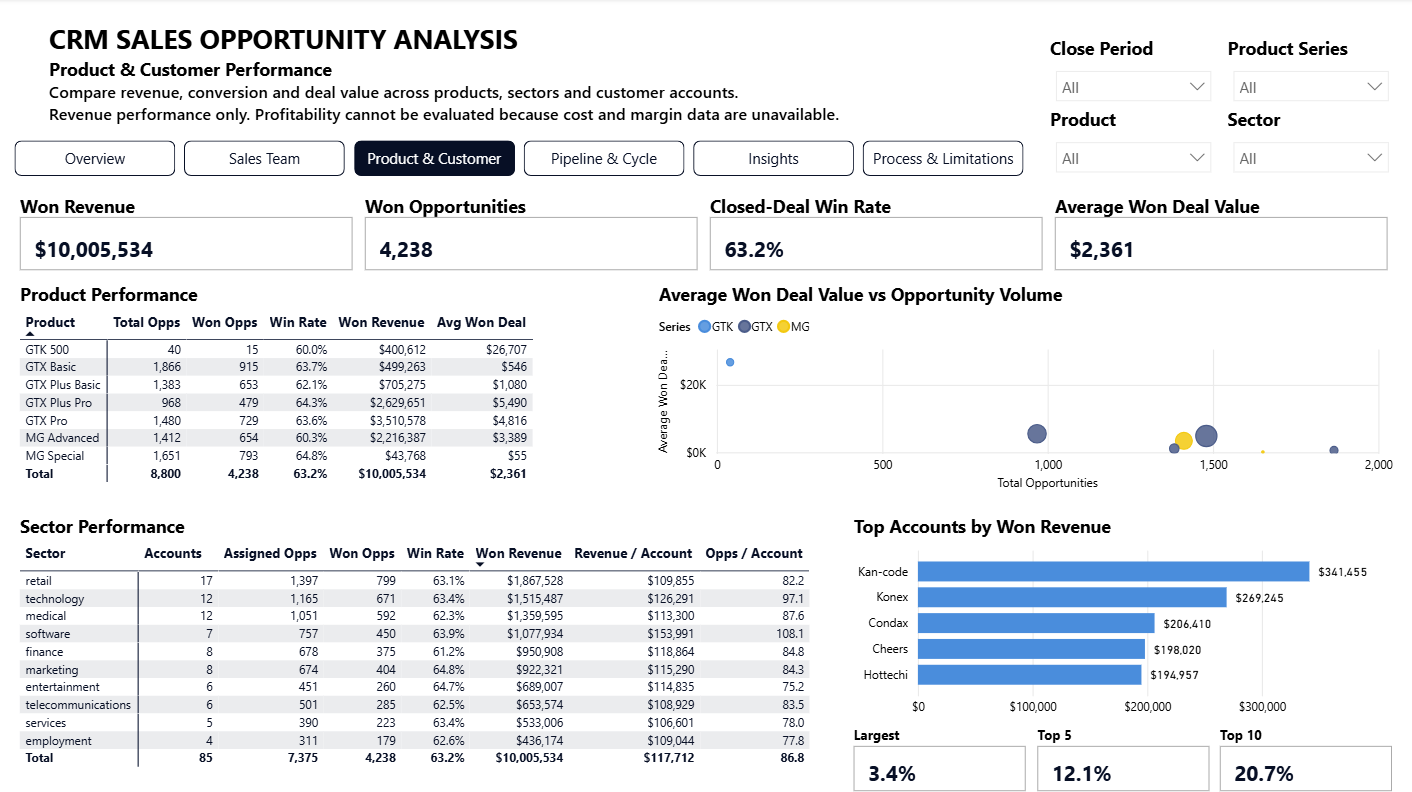

The dashboard page shown, as its layout file describes it:
{"tool":"powerbi","page":{"name":"Product & Customer","canvas":[1280,720],"ordinal":6},"visuals":[{"type":"textbox","box":[0,16,928,104],"z":0},{"type":"cardVisual","title":"Largest","fields":{"Data":["_Measures.Largest Account Revenue Share"]},"box":[768,656,165.3,64],"z":0,"group":"g3"},{"type":"pageNavigator","box":[16,128,912,32],"z":1000},{"type":"cardVisual","title":"Top 5","fields":{"Data":["_Measures.Top 5 Account Revenue Share"]},"box":[933.3,656,165.3,64],"z":1000,"group":"g3"},{"type":"slicer","title":"Close Period","fields":{"Values":["dim_date.Month Year"]},"box":[944,33.5,160,64],"z":2000,"group":"g2"},{"type":"group","id":"g1","title":"Group 1","box":[16,175.7,1248,80],"z":2000},{"type":"cardVisual","title":"Top 10","fields":{"Data":["_Measures.Top 10 Account Revenue Share"]},"box":[1098.7,656,165.3,64],"z":2000,"group":"g3"},{"type":"group","id":"g2","title":"Group 2","box":[944,33.5,320,128],"z":3000},{"type":"slicer","title":"Product Series","fields":{"Values":["dim_products.series"]},"box":[1104,33.5,160,64],"z":3000,"group":"g2"},{"type":"slicer","title":"Product","fields":{"Values":["dim_products.product"]},"box":[944,97.5,160,64],"z":4000,"group":"g2"},{"type":"pivotTable","title":"Product Performance","fields":{"Rows":["dim_products.series","dim_products.product"],"Values":["_Measures.Total Opportunities","_Measures.Won Opportunities","_Measures.Closed-Deal Win Rate","_Measures.Won Revenue","_Measures.Average Won Deal Value"]},"box":[16,256,528,192],"z":4000},{"type":"slicer","title":"Sector","fields":{"Values":["dim_accounts.sector"]},"box":[1104,97.5,160,64],"z":5000,"group":"g2"},{"type":"scatterChart","title":"Average Won Deal Value vs Opportunity Volume","fields":{"Category":["dim_products.product"],"Series":["dim_products.series"],"Size":["_Measures.Won Revenue"],"X":["_Measures.Total Opportunities"],"Y":["_Measures.Average Won Deal Value"]},"box":[592,256,672,192],"z":5000},{"type":"cardVisual","title":"Won Revenue","fields":{"Data":["_Measures.Won Revenue"]},"box":[16,175.7,311,75],"z":6000,"group":"g1"},{"type":"pivotTable","title":"Sector Performance","fields":{"Rows":["dim_accounts.sector"],"Values":["_Measures.Account Count","_Measures.Assigned Opportunities","_Measures.Won Opportunities","_Measures.Closed-Deal Win Rate","_Measures.Won Revenue","_Measures.Revenue per Account","_Measures.Opportunities per Account"]},"box":[16,464,736,256],"z":6000},{"type":"cardVisual","title":"Won Opportunities","fields":{"Data":["_Measures.Won Opportunities"]},"box":[327,175.7,311,75],"z":7000,"group":"g1"},{"type":"clusteredBarChart","title":"Top Accounts by Won Revenue","fields":{"Category":["dim_accounts.account"],"Y":["_Measures.Won Revenue"]},"box":[768,464,496,192],"z":7000},{"type":"cardVisual","title":"Closed-Deal Win Rate","fields":{"Data":["_Measures.Closed-Deal Win Rate"]},"box":[638,175.7,311,75],"z":8000,"group":"g1"},{"type":"group","id":"g3","title":"Group 3","box":[768,656,496,64],"z":8000},{"type":"cardVisual","title":"Average Won Deal Value","fields":{"Data":["_Measures.Average Won Deal Value"]},"box":[949,175.7,311,75],"z":9000,"group":"g1"}]}

Visuals, with their boxes in screenshot pixels (x1, y1, x2, y2), scaled from the page's 1280x720 canvas onto the 1412x792 screenshot:
textbox: rect(0, 18, 1024, 132)
"Largest" cardVisual: rect(847, 722, 1030, 791)
pageNavigator: rect(18, 141, 1024, 176)
"Top 5" cardVisual: rect(1030, 722, 1212, 791)
"Close Period" slicer: rect(1041, 37, 1218, 107)
"Group 1" group: rect(18, 193, 1394, 281)
"Top 10" cardVisual: rect(1212, 722, 1394, 791)
"Group 2" group: rect(1041, 37, 1394, 178)
"Product Series" slicer: rect(1218, 37, 1394, 107)
"Product" slicer: rect(1041, 107, 1218, 178)
"Product Performance" pivotTable: rect(18, 282, 600, 493)
"Sector" slicer: rect(1218, 107, 1394, 178)
"Average Won Deal Value vs Opportunity Volume" scatterChart: rect(653, 282, 1394, 493)
"Won Revenue" cardVisual: rect(18, 193, 361, 276)
"Sector Performance" pivotTable: rect(18, 510, 830, 791)
"Won Opportunities" cardVisual: rect(361, 193, 704, 276)
"Top Accounts by Won Revenue" clusteredBarChart: rect(847, 510, 1394, 722)
"Closed-Deal Win Rate" cardVisual: rect(704, 193, 1047, 276)
"Group 3" group: rect(847, 722, 1394, 791)
"Average Won Deal Value" cardVisual: rect(1047, 193, 1390, 276)
